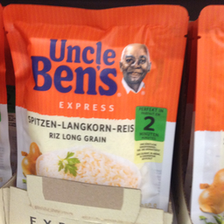rice: (3, 4, 190, 224)
